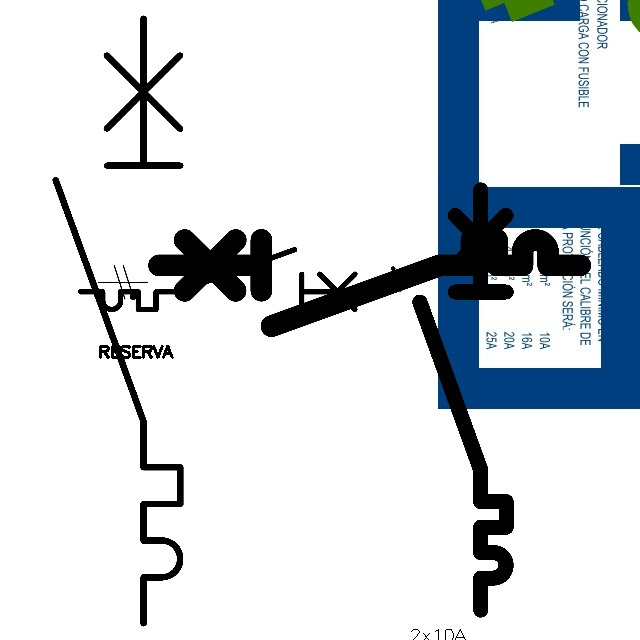interruptor_termomagnetico: (40, 3, 196, 639), (148, 229, 591, 337), (409, 179, 517, 621), (73, 242, 380, 317)
